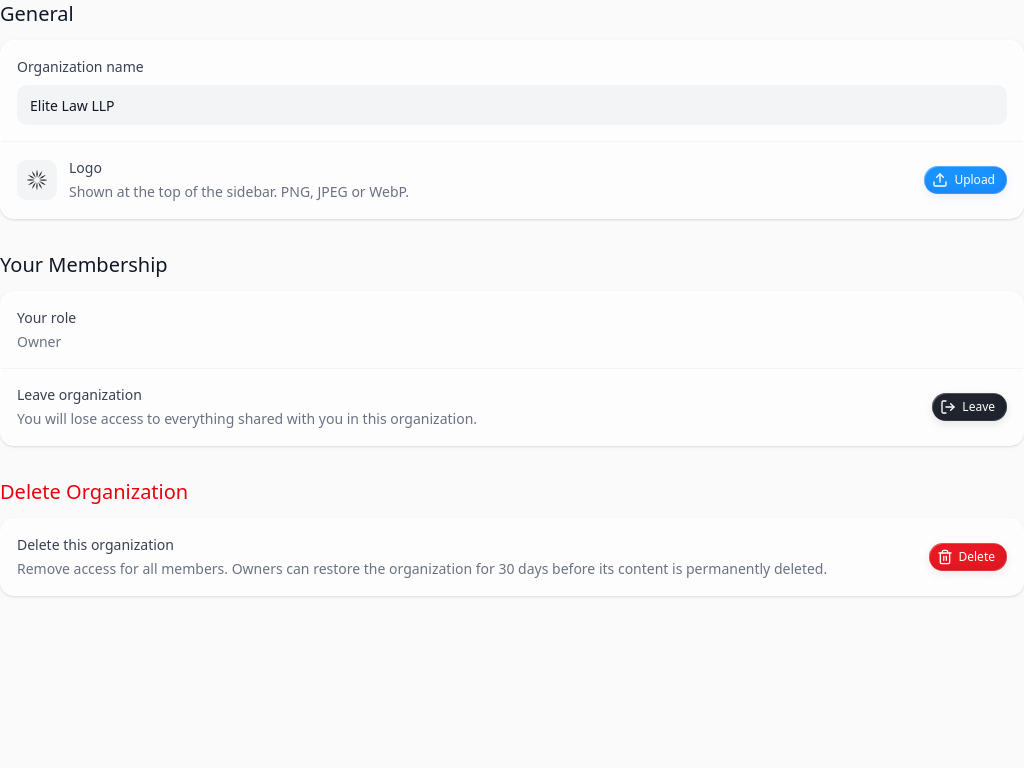
Test case: deleting › explains the 30-day owner recovery period before confirming deletion
Click the button named "Delete" in the row of "Delete this organization" at (968, 557), box [928, 543, 1007, 571]
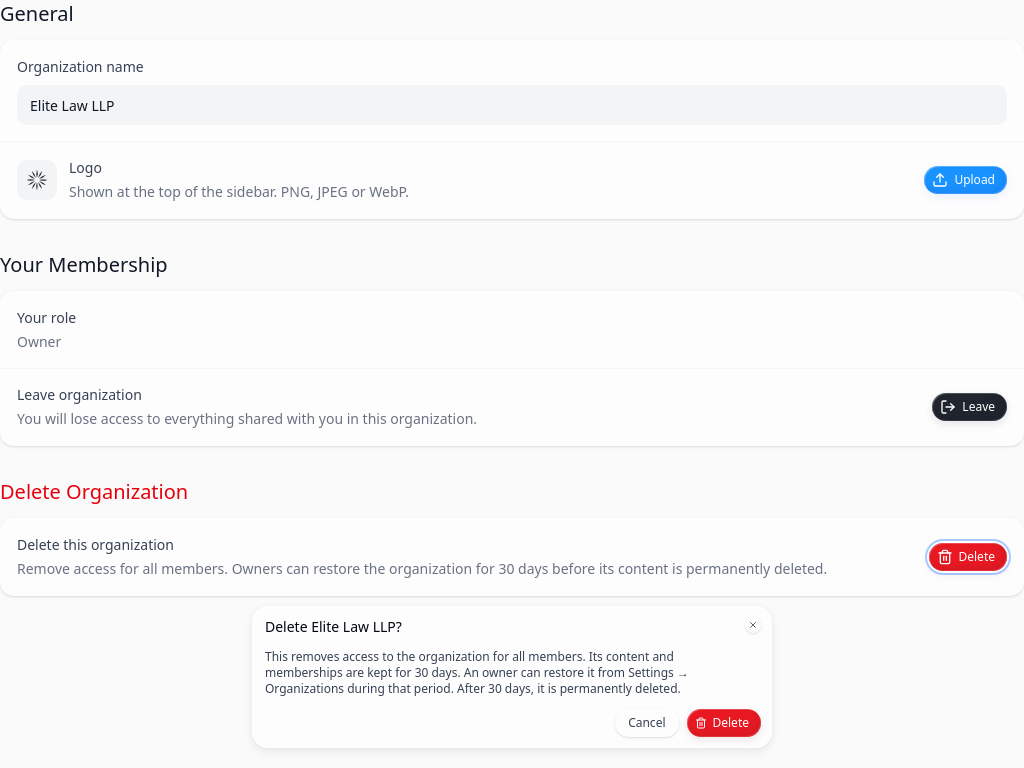
Result: the dialog shows "removes access to the organization for all members" at [265, 648, 689, 697]
Result: the dialog shows "Its content and memberships are kept for 30 days." at [265, 648, 689, 697]
Result: the dialog shows "An owner can restore it from Settings → Organizations" at [265, 648, 689, 697]
